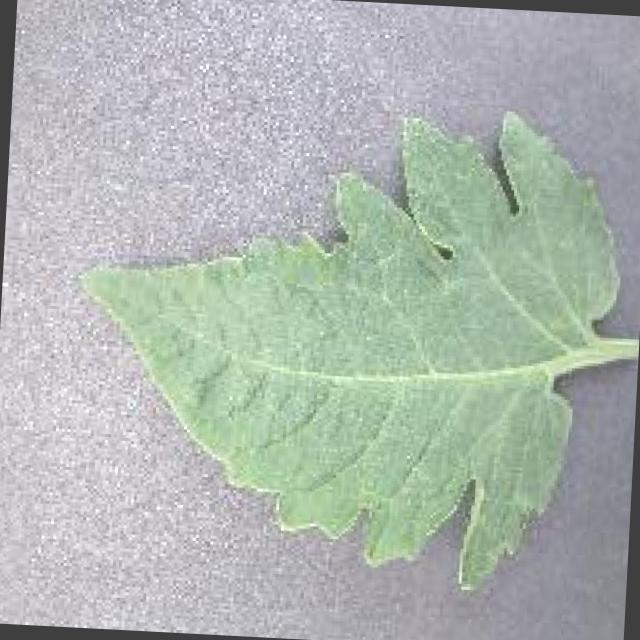healthy: (87, 109, 639, 589)
